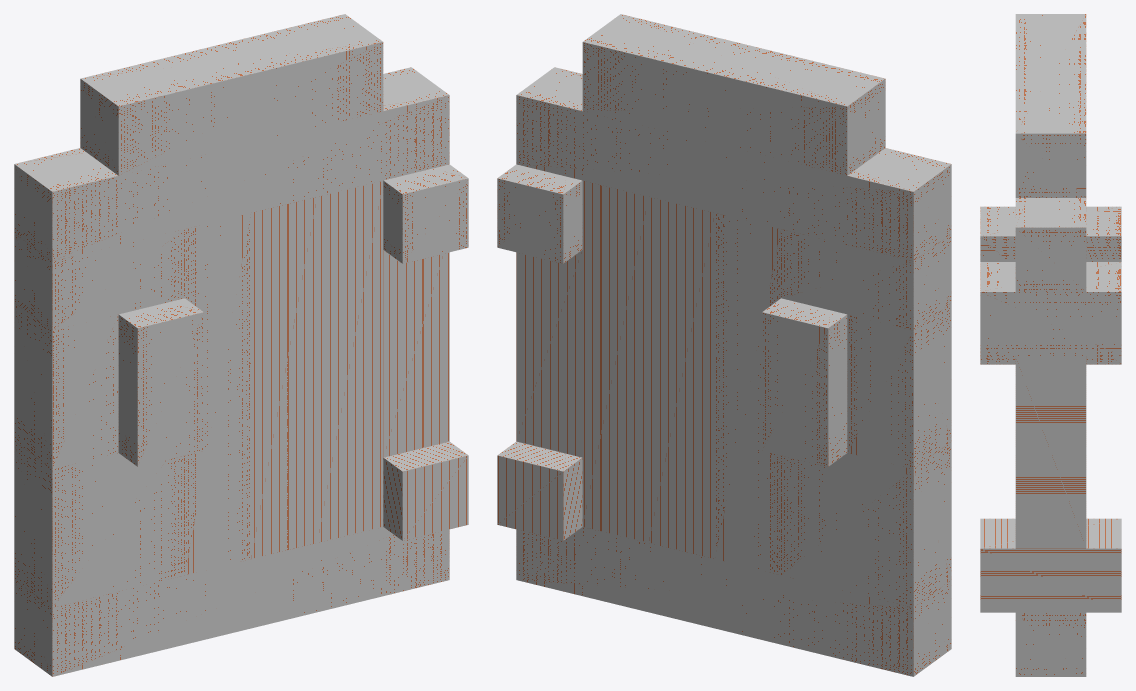
The model's file is wood-gate.fbx.
3 renders of one model, left to right at view 1: azimuth 30°, elevation 25°; view 2: azimuth 150°, elevation 25°; view 3: azimuth 270°, elevation 25°, orthographic. The views are drawn at different scales.
Parts seen in each view (by area): view 1: generated; view 2: generated; view 3: generated.
Boxes of the visible parts, bbox=[...] form: generated: bbox=[14, 14, 468, 676]; generated: bbox=[497, 14, 951, 676]; generated: bbox=[980, 14, 1121, 676].
Bounding box in the file's own units: 60 × 80 × 20.
1 material, 1 textured.
